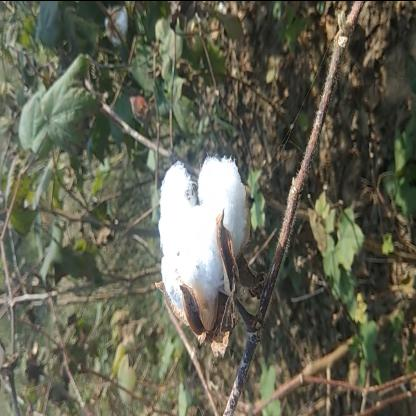cotton_ready: (140, 160, 266, 322)
